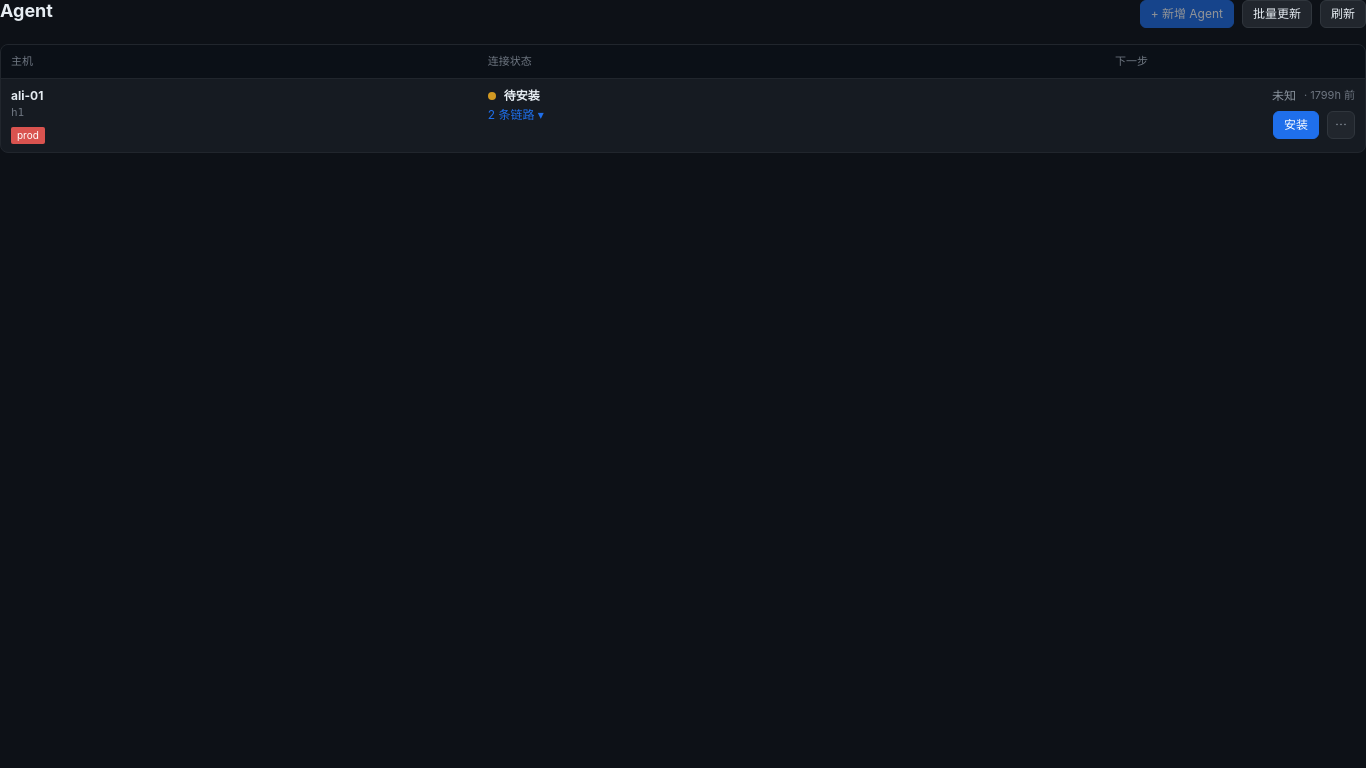
Test: AgentManagerTab › shows the remote_uninstall recovery stage to the user
The image size is (1366, 768).
Click the button with test id "agent-more-h1": (1341,124) 1327,110 -> 1355,138
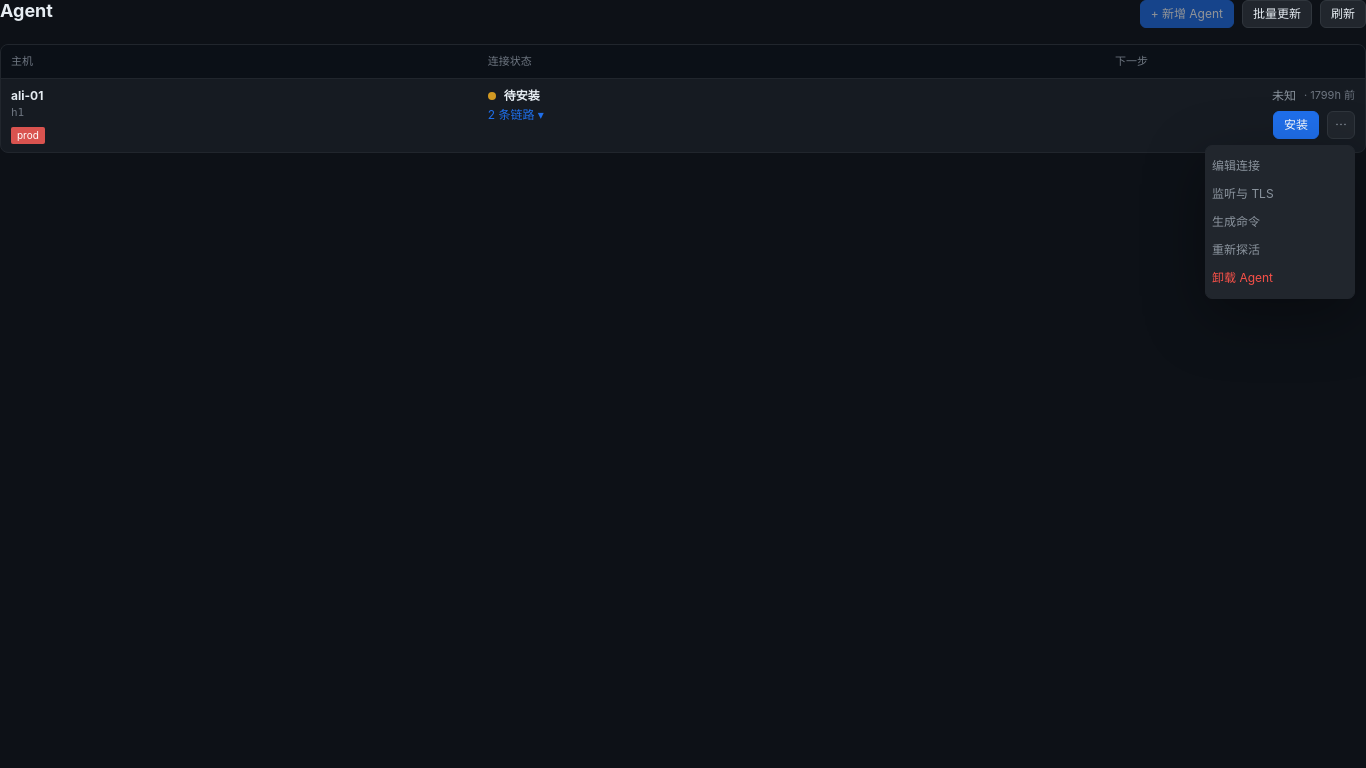
Click the button with test id "agent-menu-uninstall-h1": (1280,278) 1212,264 -> 1348,292
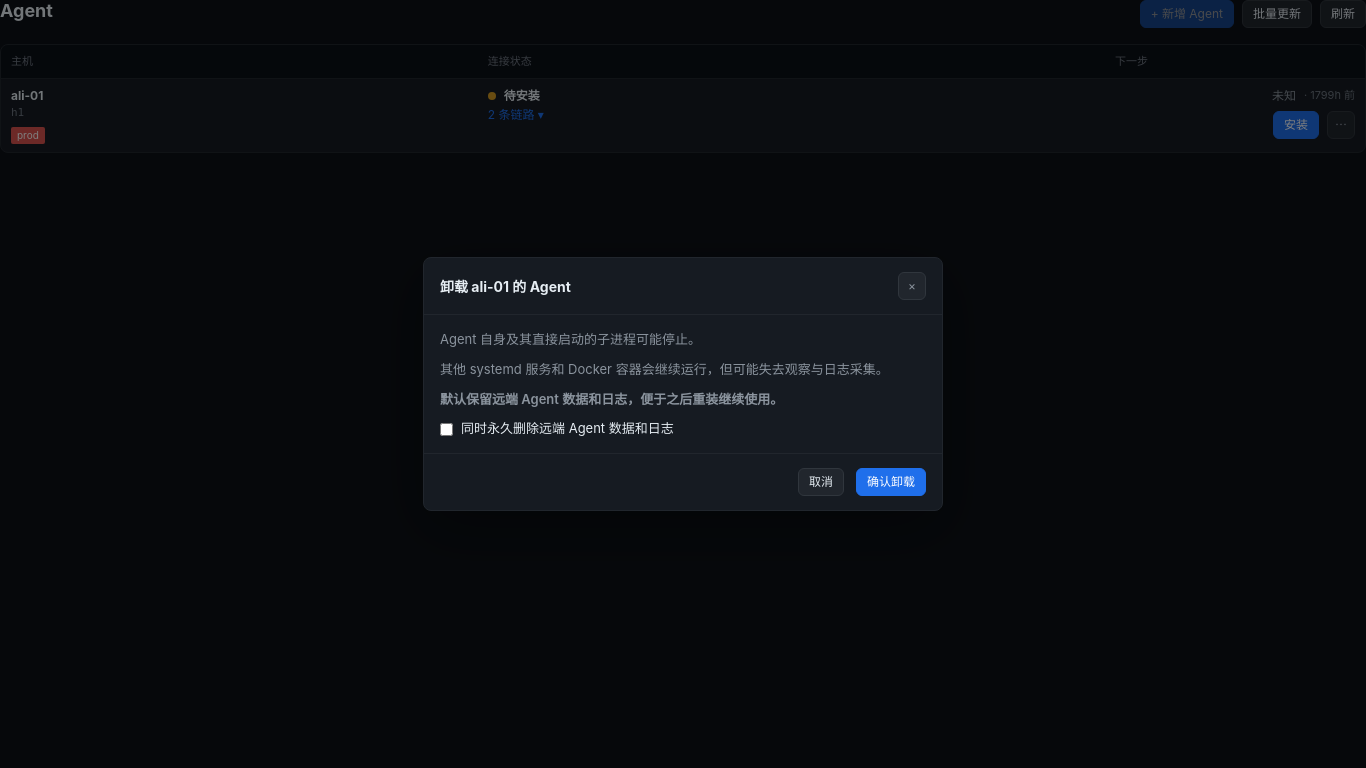
Click the button with test id "agent-uninstall-confirm": (891,482) 856,468 -> 926,496
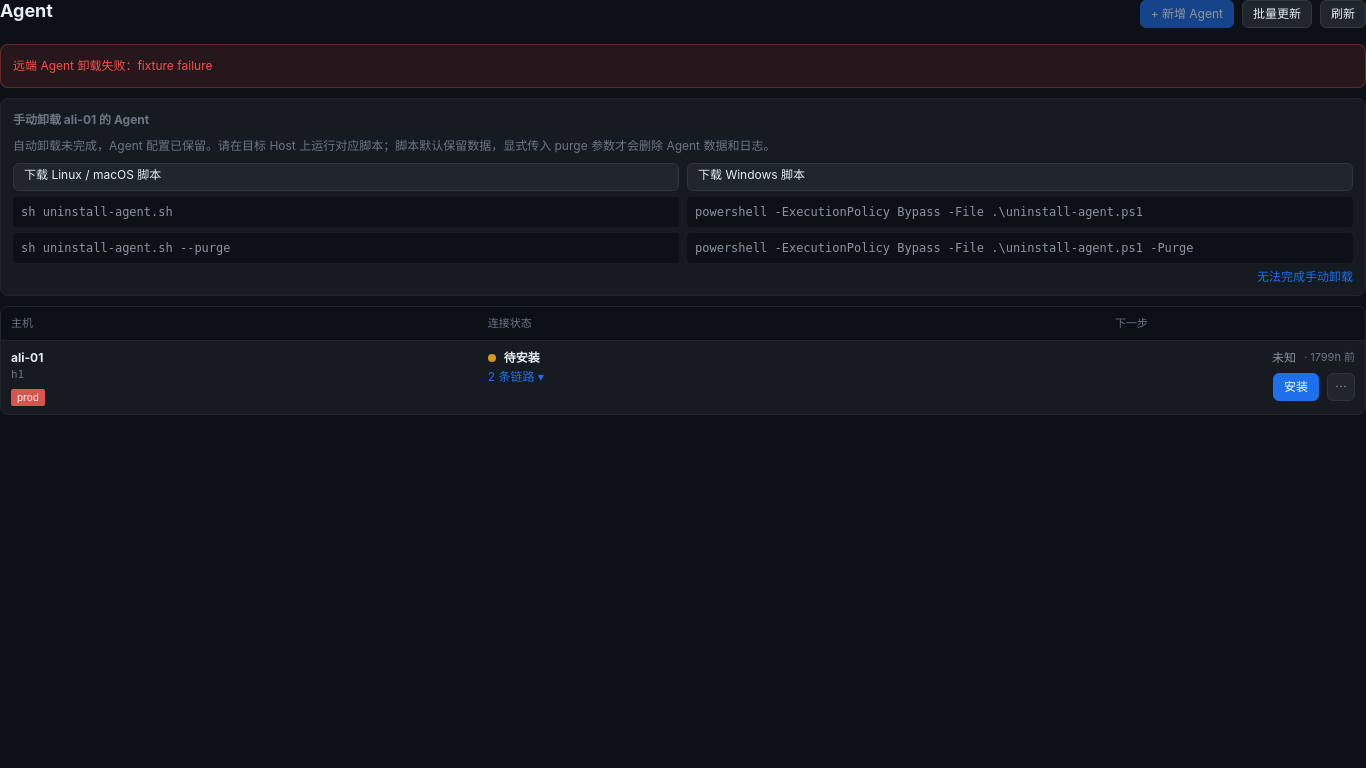
Expected: the text "远端 Agent 卸载失败" is shown, 13,58 -> 212,73
